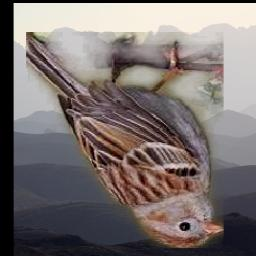Sparrow: (27, 32, 225, 248)
